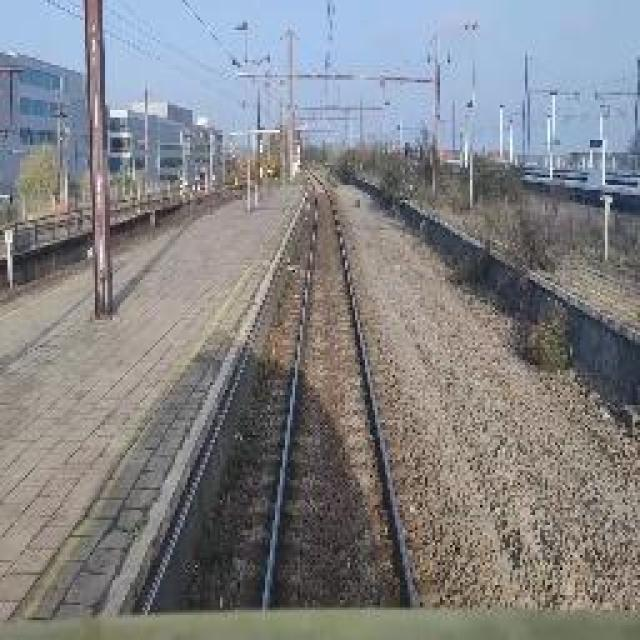rail: (206, 164, 452, 613)
